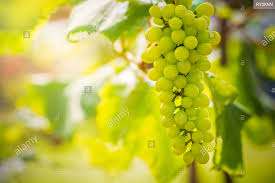grapes: (147, 6, 217, 180)
